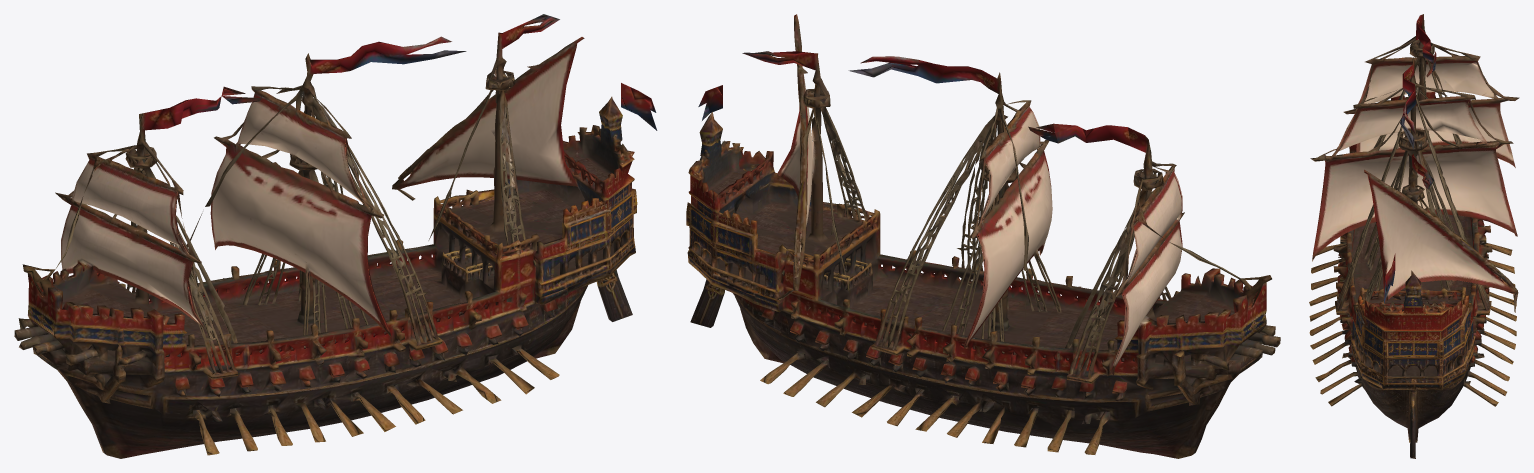
Rendered from osmanli-gokesi-kemal-reis-1495-1520-tripo-v1.glb.
3 views of the same model, side by side, from view 1: azimuth 30°, elevation 25°; view 2: azimuth 150°, elevation 25°; view 3: azimuth 270°, elevation 25° (orthographic). The views are drawn at different scales.
Parts seen in each view (by area): view 1: tripo_node_3f1c88ac-cdc7-48f4-bfad-d42580930969; view 2: tripo_node_3f1c88ac-cdc7-48f4-bfad-d42580930969; view 3: tripo_node_3f1c88ac-cdc7-48f4-bfad-d42580930969.
Boxes of the visible parts, x1,y1,x2,y2 form: tripo_node_3f1c88ac-cdc7-48f4-bfad-d42580930969: [14, 14, 657, 458]; tripo_node_3f1c88ac-cdc7-48f4-bfad-d42580930969: [686, 14, 1280, 458]; tripo_node_3f1c88ac-cdc7-48f4-bfad-d42580930969: [1309, 14, 1519, 458].
Size of the model in its own units: 1 by 0.5553 by 0.3652.
1 material, 1 textured.
